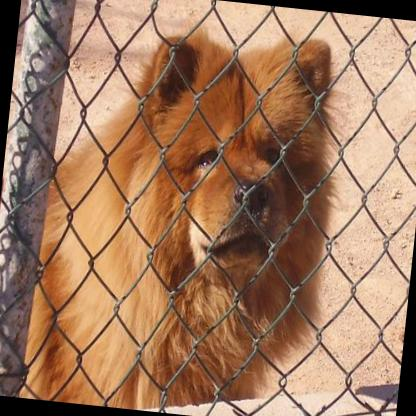chow: (18, 0, 361, 416)
